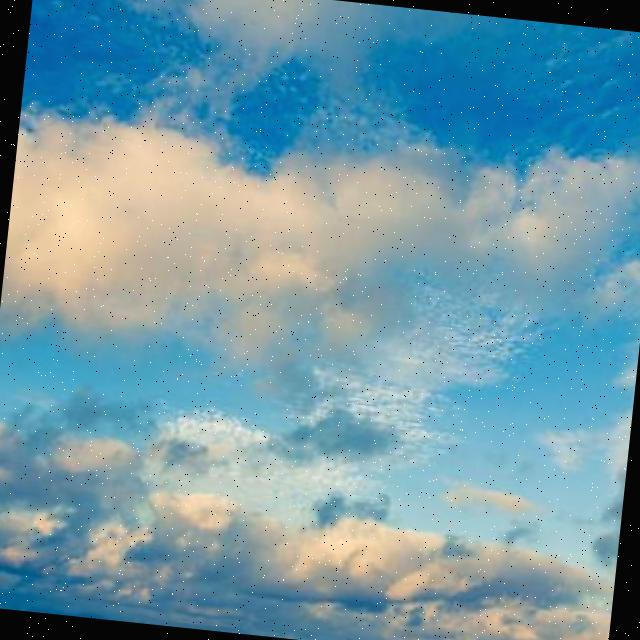Cs: (1, 17, 640, 640)
